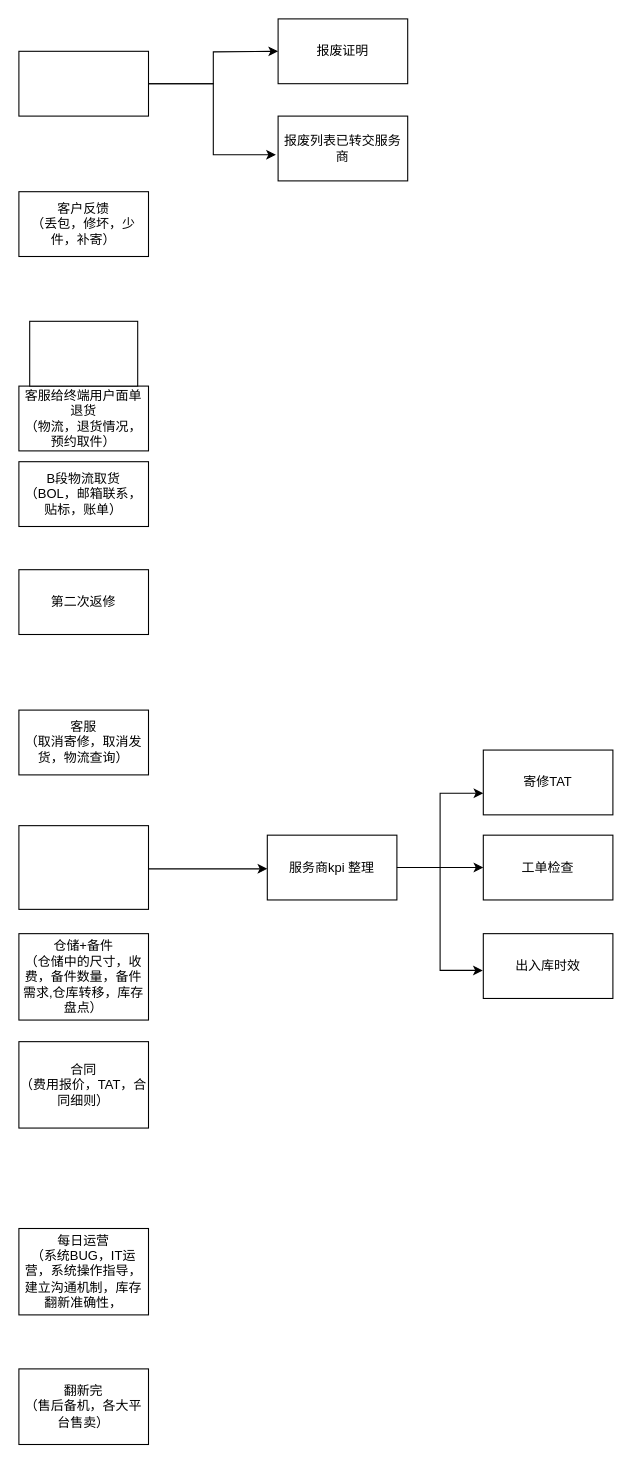
The diagram is 632 pixels wide and 1463 high, and some of its shapes have lost their labels. The shapes that lost their labels are listed below. From the top down, each one's centre as x and y in pixels, then its label:
point (83, 83): 报废 (报废证明，报废列表）
point (83, 353): 亚马逊索赔
point (83, 867): 账单 （出入库费，劳务费，仓储费，报废费，物流费）
